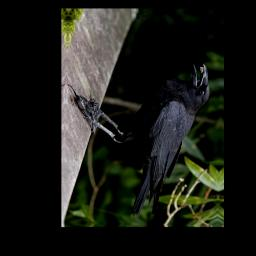Crow: (80, 61, 211, 220)
